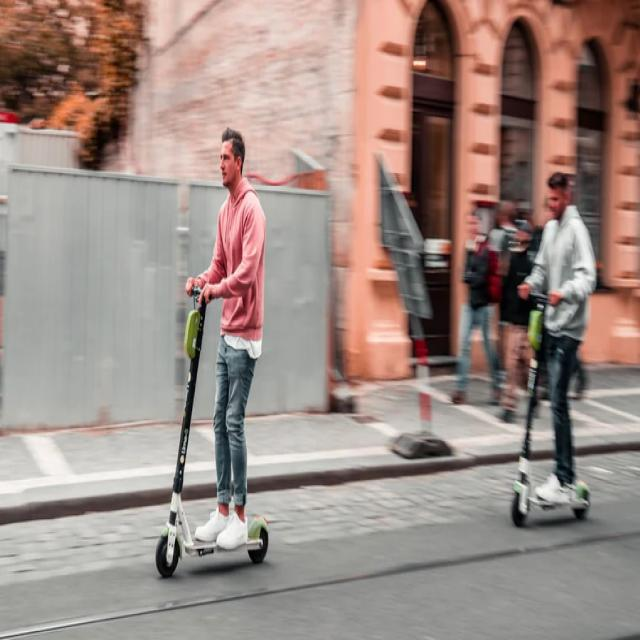non-helmet: (138, 105, 283, 604), (501, 148, 602, 536)
